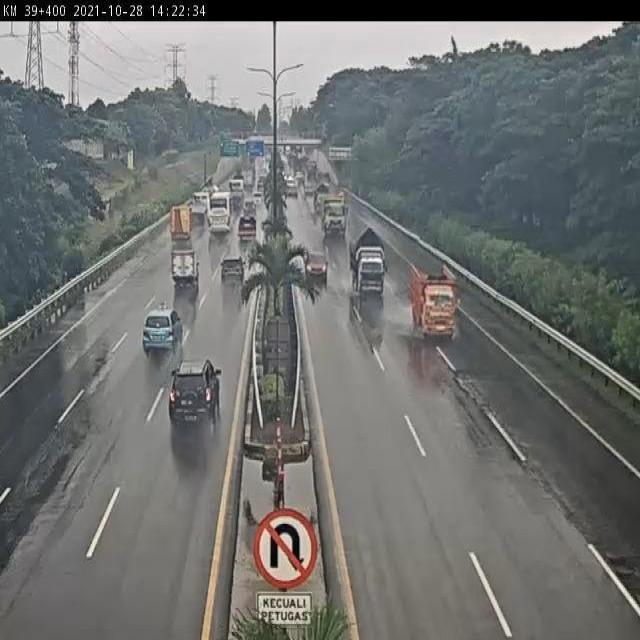big bus: (206, 189, 238, 236)
car: (171, 248, 200, 288)
truck-l-: (320, 188, 349, 235)
truck-s-: (409, 253, 458, 339), (347, 220, 388, 300), (169, 200, 194, 241), (239, 211, 258, 245)
